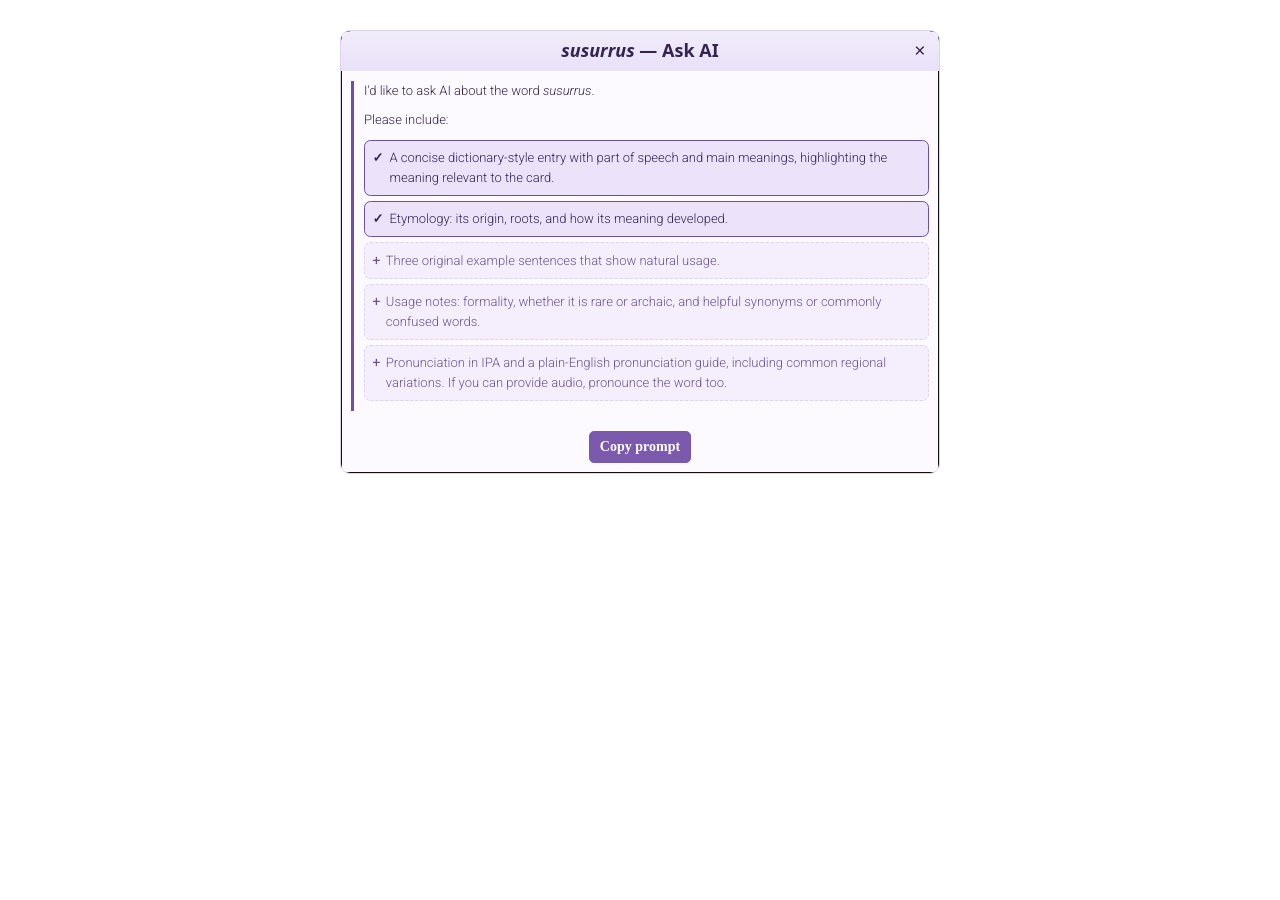
copies the full prompt including the hidden introduction and closing
Expected: the element named "Your prompt" shows "susurrus", [543,83,592,98]
Click the button "Copy prompt" at (640, 447), box [589,431,691,463]
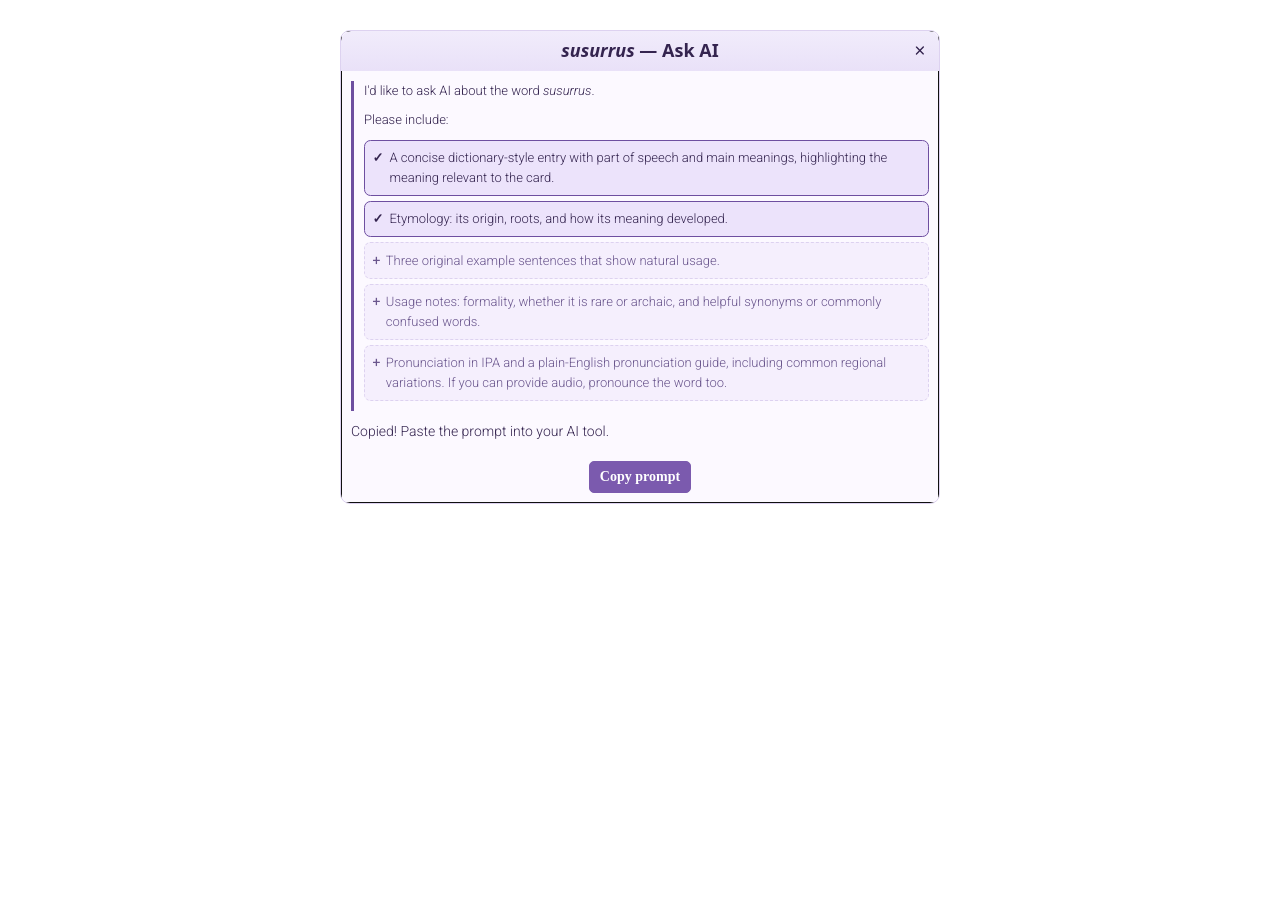
Expected: the text "Copied! Paste the prompt into your AI tool." is shown, [351,423,609,439]
